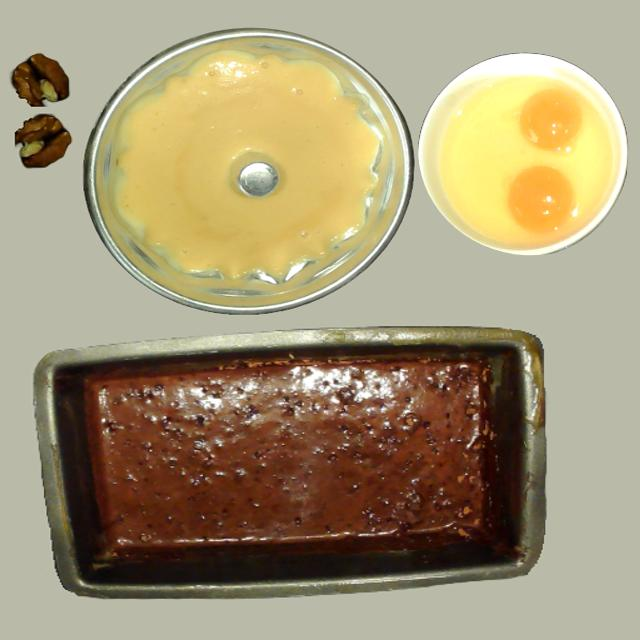Egg: (508, 166, 574, 232), (519, 88, 583, 151)
